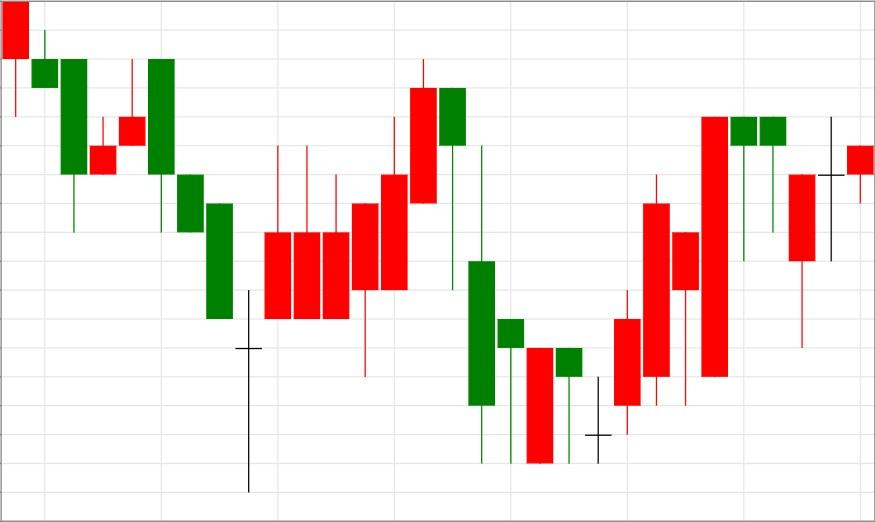hammer_rise: (409, 57, 583, 464)
hanging_man_fall: (235, 58, 467, 492), (584, 116, 787, 464)
